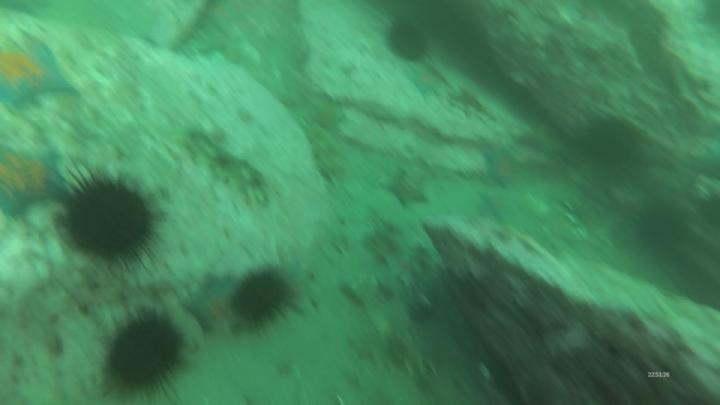echinus: (52, 165, 159, 275), (101, 304, 185, 404), (225, 263, 300, 338), (583, 116, 641, 174), (635, 203, 690, 260), (382, 19, 434, 66)
holothurian: (181, 131, 269, 208), (353, 330, 442, 383), (302, 119, 352, 185)
starfish: (1, 37, 88, 114), (1, 144, 75, 221), (182, 270, 239, 338), (481, 144, 523, 192), (388, 166, 431, 207), (474, 190, 515, 226), (408, 66, 448, 100)
